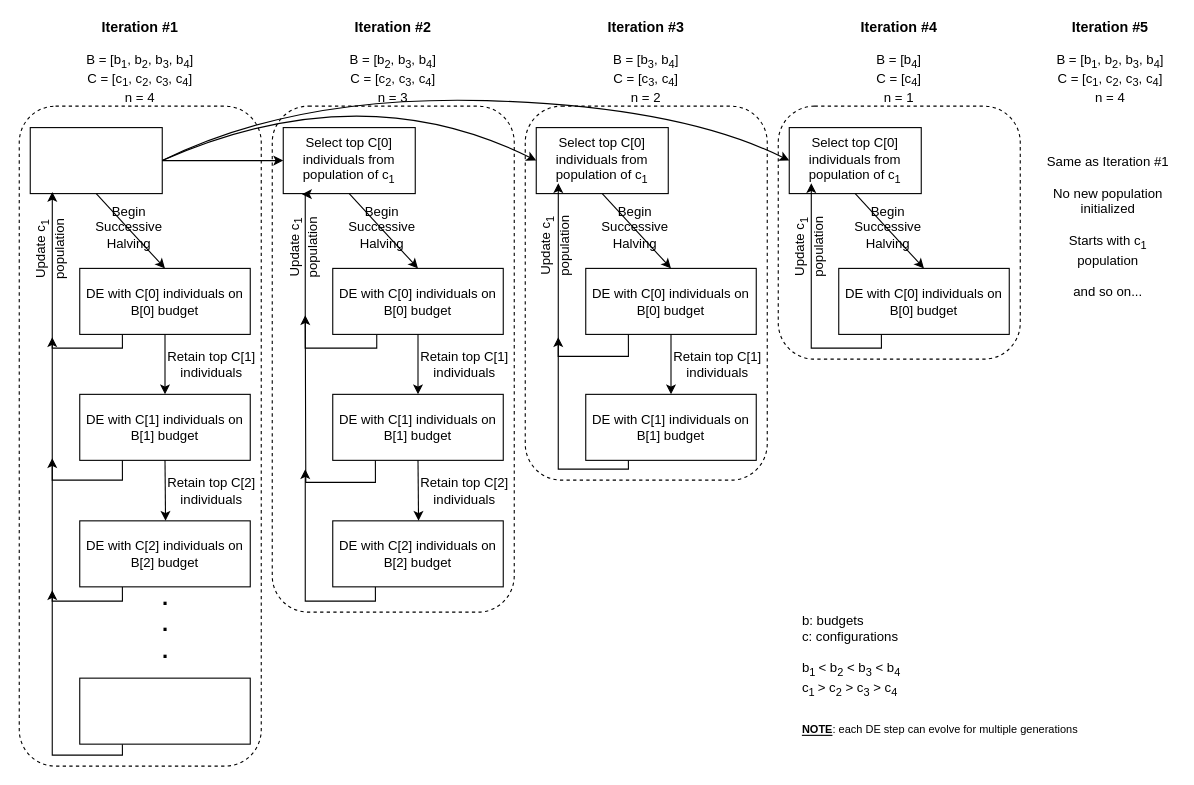
Image size: 1194x785. Some labels were removed from this diagram. Each missing label, with the centre of its shape:
"DE with C[n-1] individuals on B[n-1] budget" belongs at point (164, 710).
"Initialize population of size c 1" belongs at point (95, 160).
